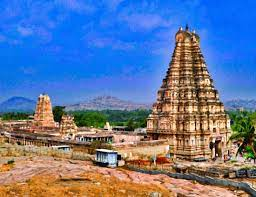Temple: (147, 26, 230, 156), (33, 95, 56, 134)
